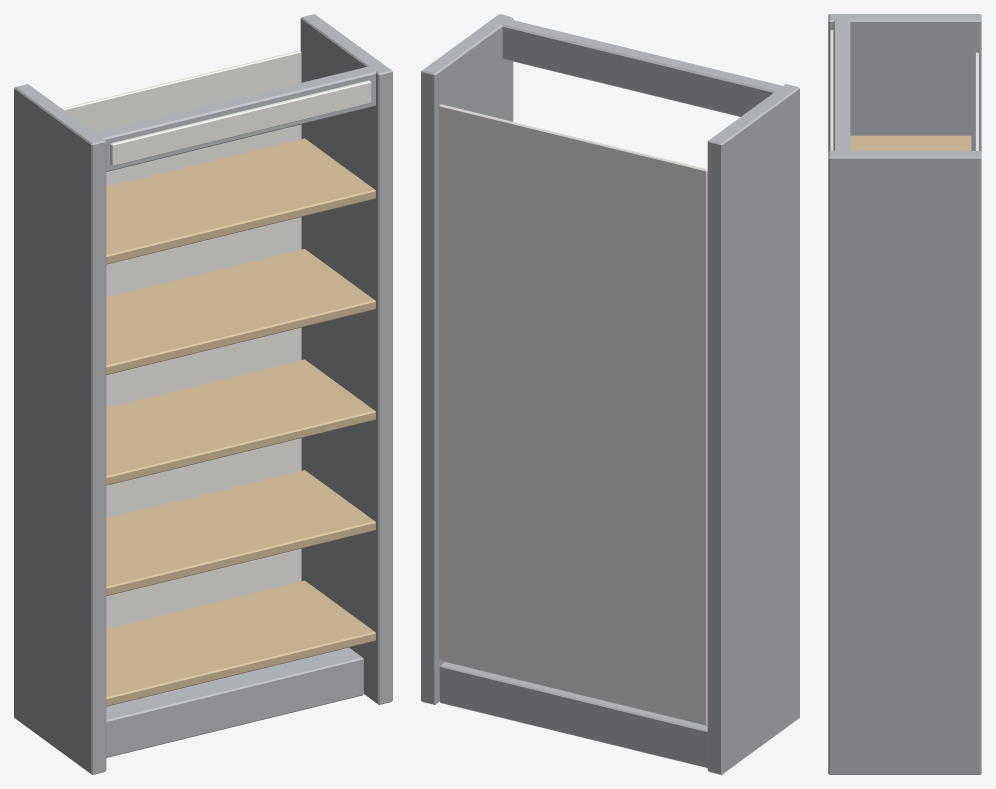
Rendered from clothing-rail-and-wardrobe-folded-stock-shelving-bay-df39e5c8__35467.glb.
3 views of the same model, side by side, from view 1: azimuth 30°, elevation 25°; view 2: azimuth 150°, elevation 25°; view 3: azimuth 270°, elevation 25° (orthographic). The views are drawn at different scales.
Visible parts, largest first — view 1: folded-stock-shelving-bay; view 2: folded-stock-shelving-bay; view 3: folded-stock-shelving-bay.
Part boxes in pixels (box(x1,y1,x2,y2)): folded-stock-shelving-bay: box(14, 14, 392, 774); folded-stock-shelving-bay: box(421, 14, 799, 774); folded-stock-shelving-bay: box(828, 14, 981, 774).
Bounding box in the file's own units: 1 × 2 × 0.45.
